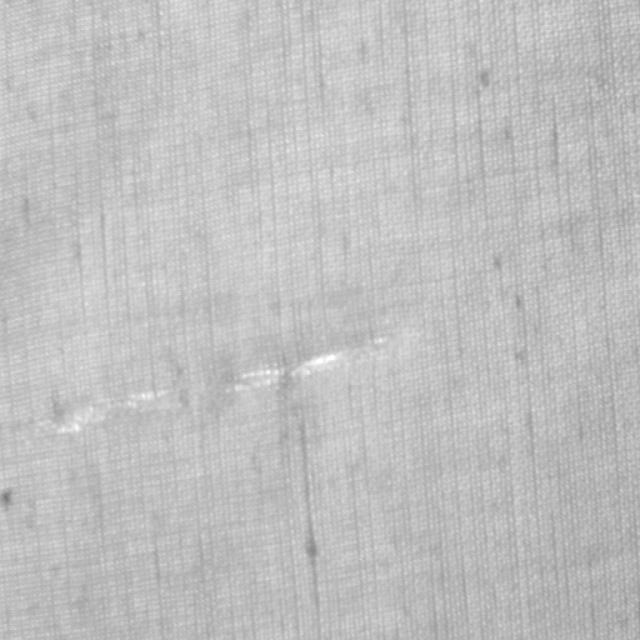thread error: (39, 316, 429, 440)
